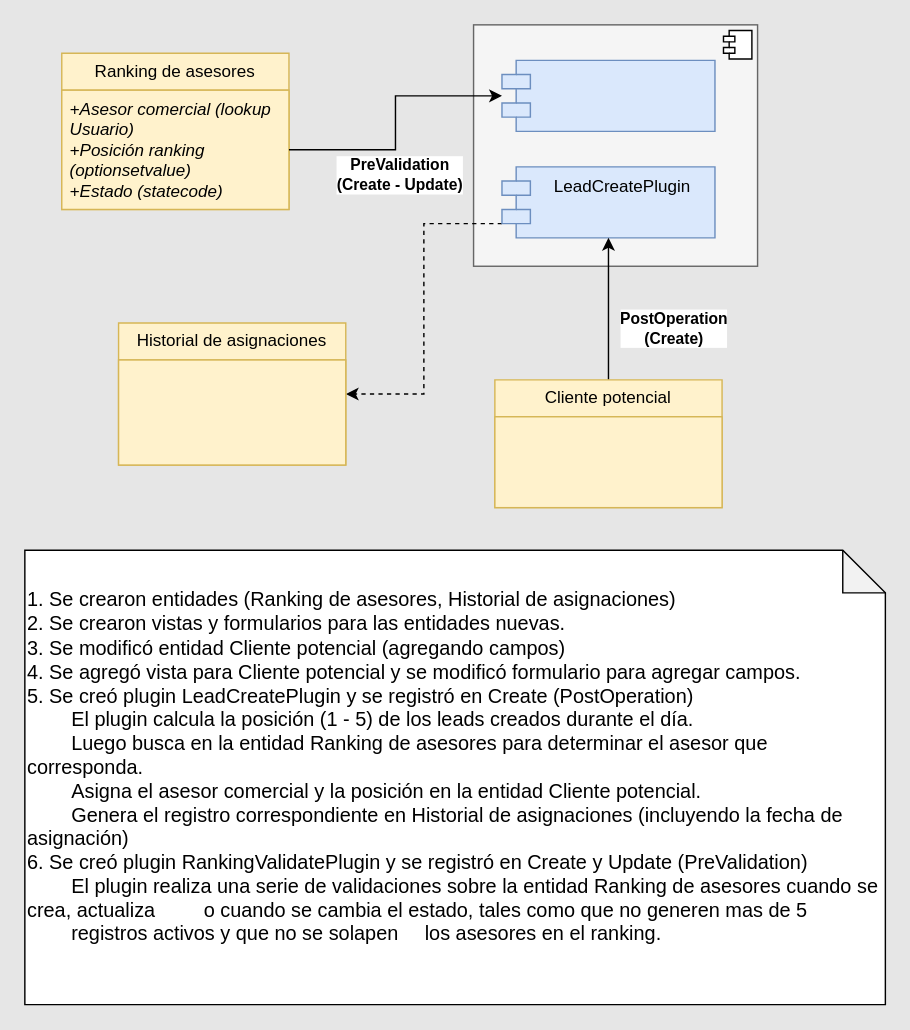
This 910x1030 diagram has some shape labels left out. The shapes that lost their labels are listed below. From the top down, each one's centre as x and y in pixels, then its label:
At (x=608, y=95): "RankingValidatePlugin".
At (x=231, y=412): "+Cliente potencial +Asesor +Fecha asignación +Num. sec día".
At (x=607, y=461): "+Núm sec día +Asesor comercial (lookup Usuario)".
